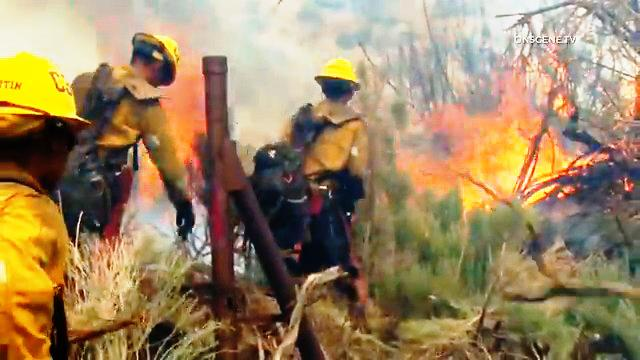fire: (426, 97, 575, 208)
